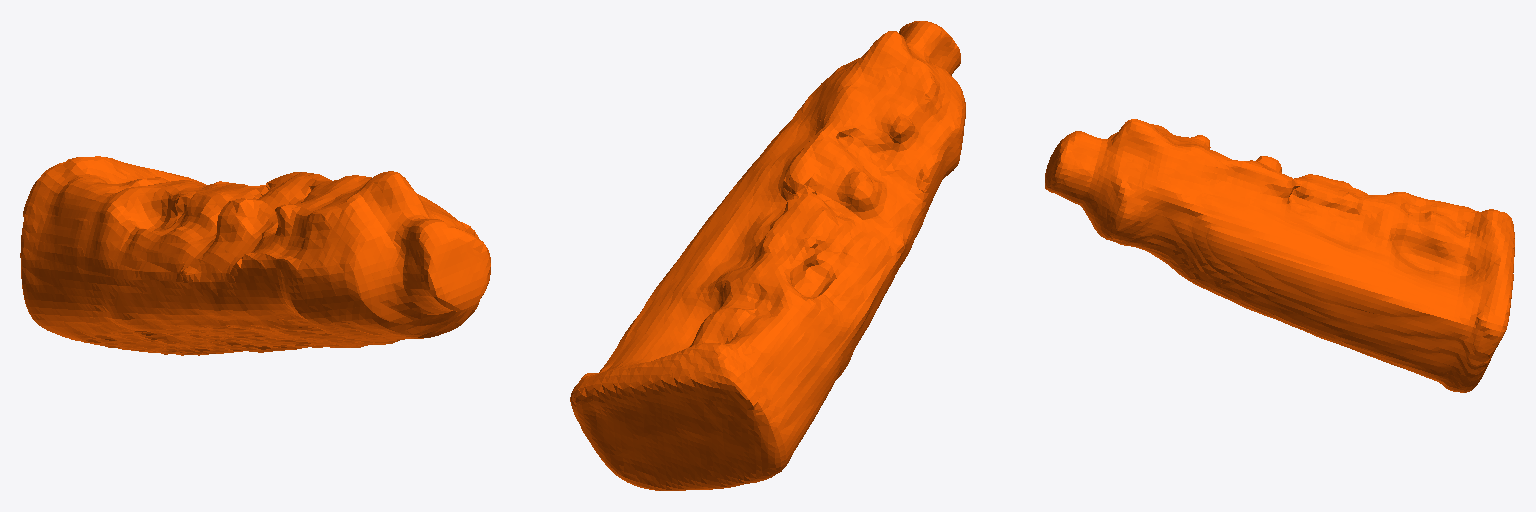
The robot description file, URDF, robot "81a2bea9a":
<?xml version="1.0" ?>
<robot name="81a2bea9a">
   <material name="obj_color">
      <color rgba="1.0 0.423529411765 0.0392156862745 1.0"/>
   </material>
   <link name="top">
      <inertial>
         <origin rpy="0.0008165437411814845 0.004856671659064213 0.005184404711512339" xyz="0.001334288684669337 0.01835156704208743 -0.002803531914881593"/>
         <mass value="1.011208881699847"/>
         <inertia ixx="0.00488986001924238" ixy="0.0001322561843368696" ixz="5.66641764407785e-05" iyy="0.001428624426018371" iyz="0.00150585508703996" izz="0.004539135666497283"/>
      </inertial>
      <visual>
         <origin rpy="0 0 0" xyz="0 0 0"/>
         <geometry>
            <mesh filename="top_watertight_tiny.stl" scale="1 1 1"/>
         </geometry>
         <material name="obj_color"/>
      </visual>
      <collision>
         <origin rpy="0 0 0" xyz="0 0 0"/>
         <geometry>
            <mesh filename="top_watertight_tiny.obj" scale="1 1 1"/>
         </geometry>
      </collision>
   </link>
   <link name="bottom">
      <inertial>
         <origin rpy="1.633333333199431e-08 1.633333333199431e-08 1.633333333362855e-08" xyz="0.3464080000000008 0.3464080000000008 0.3464080000000008"/>
         <mass value="0.0009800000000000017"/>
         <inertia ixx="1.633333333253906e-08" ixy="5.447480642029219e-19" ixz="5.447480642029219e-19" iyy="1.633333333253906e-08" iyz="5.447480642029219e-19" izz="1.633333333253906e-08"/>
      </inertial>
      <visual>
         <origin rpy="0 0 0" xyz="0 0 0"/>
         <geometry>
            <mesh filename="bottom_watertight_tiny.stl" scale="1 1 1"/>
         </geometry>
         <material name="obj_color"/>
      </visual>
   </link>
   <joint name="rotation" type="revolute">
      <origin xyz="0 0 0"/>
      <axis xyz="0 0 -1"/>
      <parent link="bottom"/>
      <child link="top"/>
      <dynamics damping="1.0" friction="1.0"/>
      <limit effort="0.1" velocity="0.1" lower="0" upper="0.001"/>
   </joint>
</robot>

--- What the picture shows (computed from the rendered views, not written in the file) ---
The picture shows the robot from 3 angles, left to right: view 1: azimuth 30°, elevation 25°; view 2: azimuth 150°, elevation 25°; view 3: azimuth 270°, elevation 25°; orthographic projection.
Robot: 81a2bea9a — 2 links, 1 joints (1 revolute); root link bottom; default pose: every joint at zero.
Links seen in each view (by area): view 1: top; view 2: top; view 3: top.
Boxes of the visible links, x1=… form: top: x1=20, y1=156, x2=490, y2=355; top: x1=570, y1=21, x2=965, y2=490; top: x1=1045, y1=119, x2=1514, y2=392.
Bounding box of the posed robot: 0.1031 × 0.2566 × 0.1523 m (x, y, z).
Meshes: 2 distinct files referenced, 1 mesh visuals loaded (1 binary STL); not drawn: 1 (reference not matched to a file when rendering).